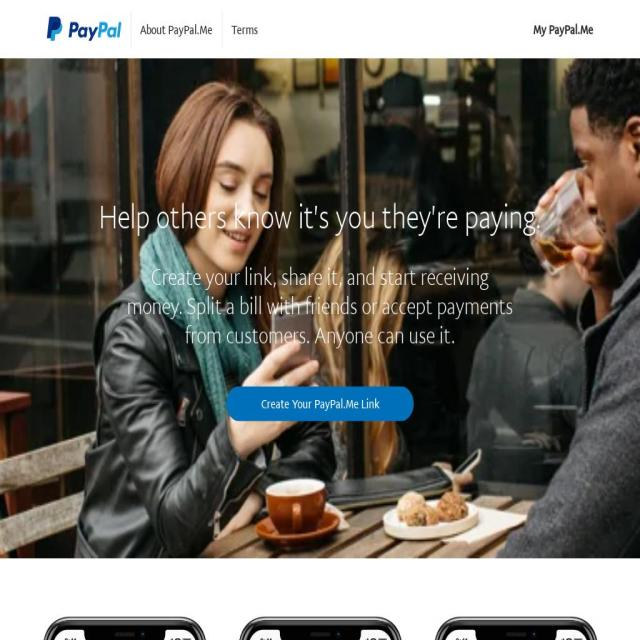button: (226, 386, 414, 422), (130, 12, 222, 48), (222, 12, 258, 48)
heading: (126, 262, 514, 350), (76, 195, 564, 237)
image: (40, 616, 208, 640), (431, 616, 599, 640), (236, 616, 403, 640), (47, 17, 121, 41)
link: (533, 21, 593, 37)
text: (140, 21, 212, 37), (231, 21, 258, 37)
